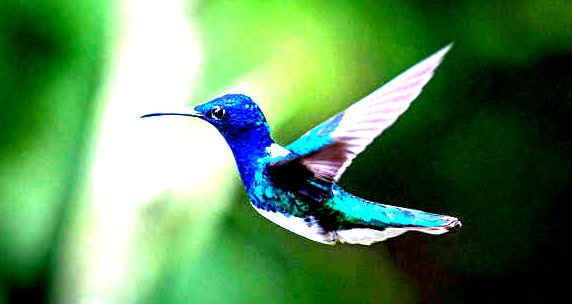Bird: (134, 40, 466, 243)
